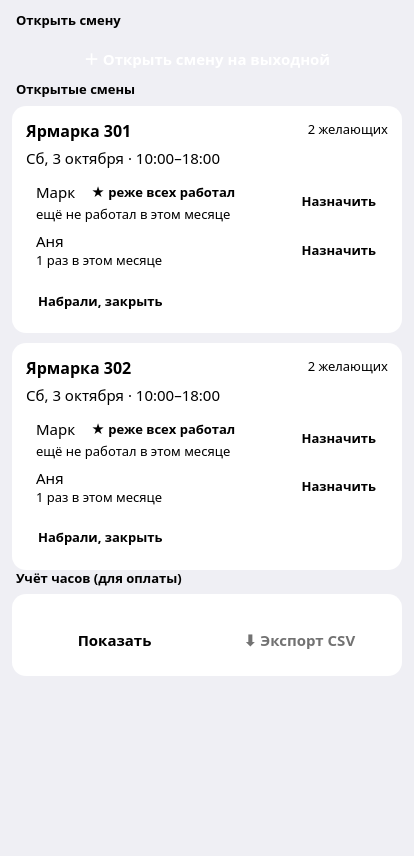
AdminWeekendScreen — «Набрали, закрыть» › одно нажатие только спрашивает; подтверждение закрывает этот слот и говорит, скольким написали
Click the button "Набрали, закрыть" below "Ярмарка 302". click: (100, 538)
box: [26,520,174,556]
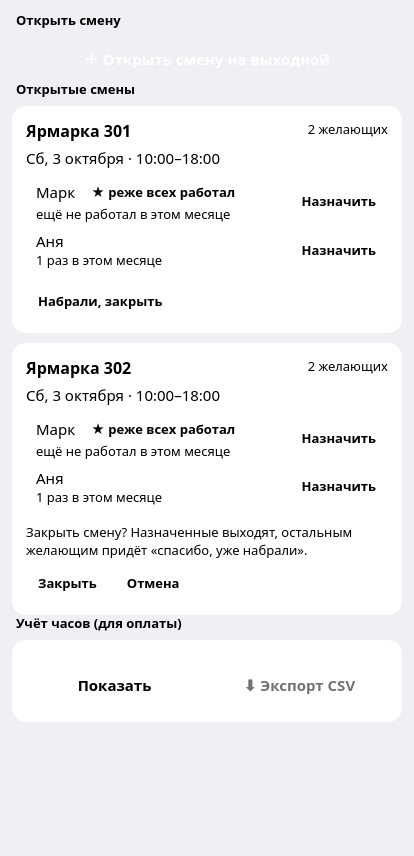
Expected: the text "Закрыть смену? Назначенные выходят" is shown, [26,523,352,559]
Click the button "Закрыть". click: (67, 583)
box: [26,565,109,601]
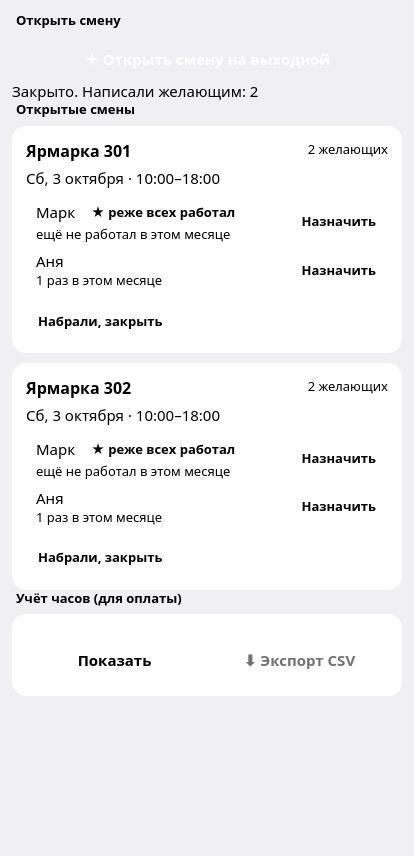
Expected: the text "Закрыто. Написали желающим: 2" is shown, [12,81,258,101]
